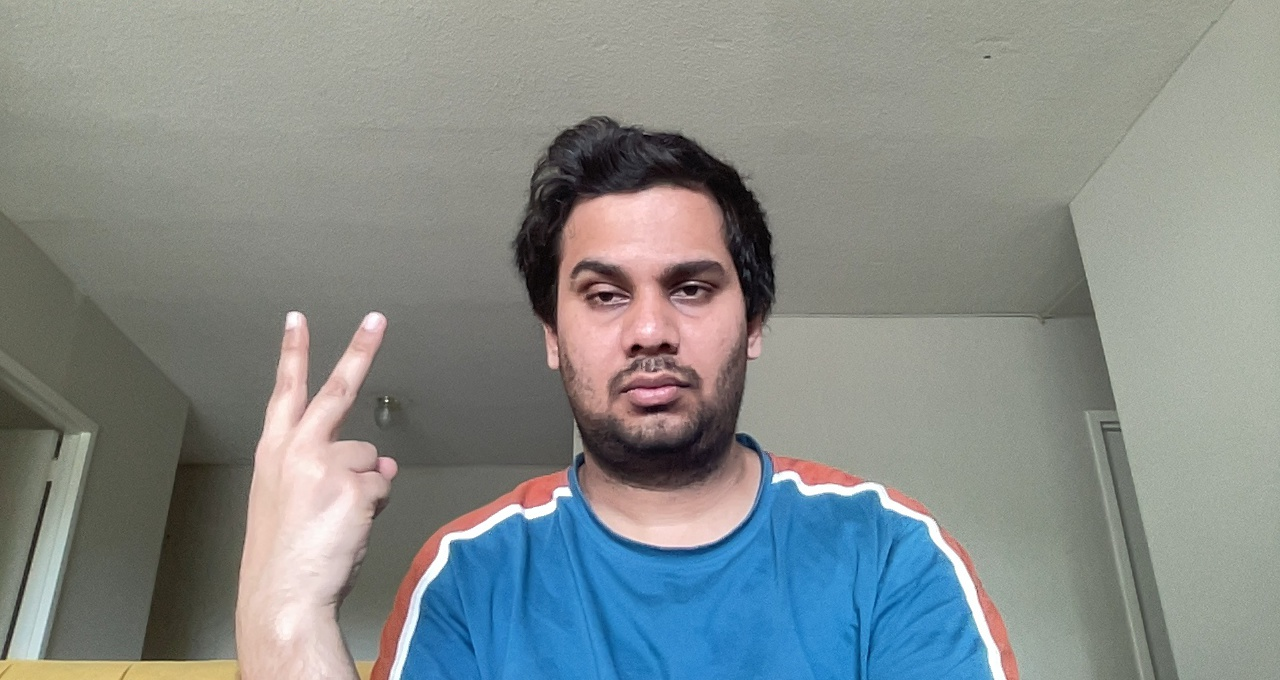peace sign: (236, 293, 407, 613)
